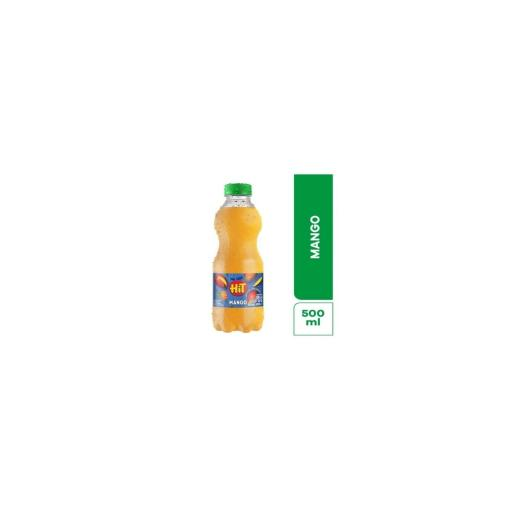JugoHM: (204, 177, 270, 337)
